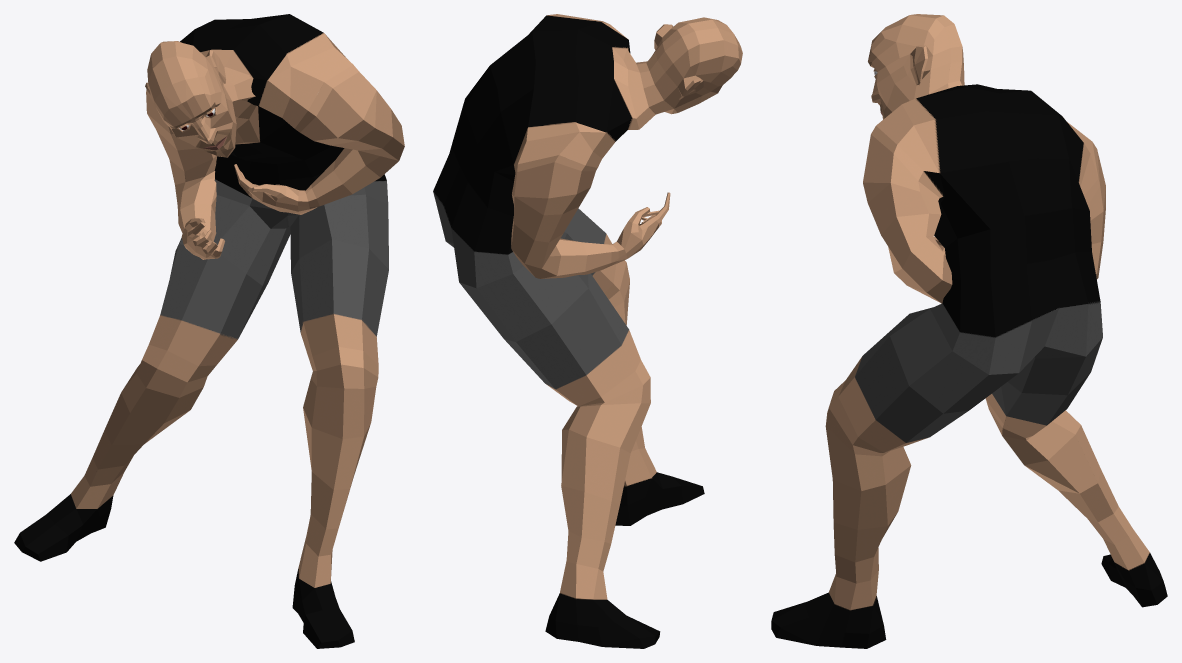
Rendered from PlayerDead(24).obj.
3 views of the same model, side by side, from view 1: azimuth 30°, elevation 25°; view 2: azimuth 150°, elevation 25°; view 3: azimuth 270°, elevation 25° (orthographic). The views are drawn at different scales.
Parts seen in each view (by area): view 1: Plane002; view 2: Plane002; view 3: Plane002.
Part boxes in pixels (bbox=[...]): Plane002: bbox=[14, 14, 404, 648]; Plane002: bbox=[433, 14, 742, 648]; Plane002: bbox=[771, 14, 1167, 648].
Size of the model in its own units: 724 by 1371 by 855.
